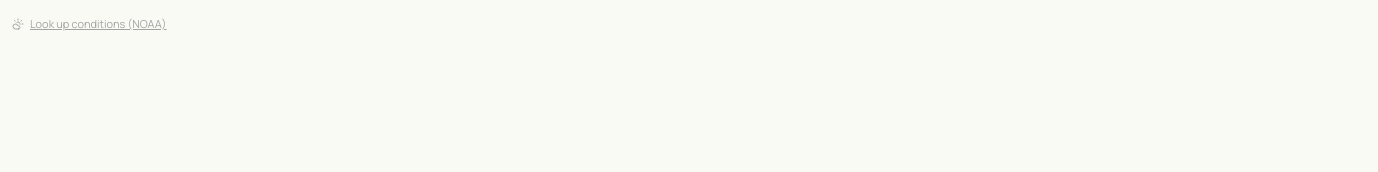
the accept gate › shows the suggestion with station and distance, and fills NOTHING until accepted
The width and height of the screenshot is (1378, 172).
Later steps or results of the test are not shown.
Click the button "Look up conditions (NOAA)".
click(89, 24)  # box x1=12 y1=16 x2=166 y2=32
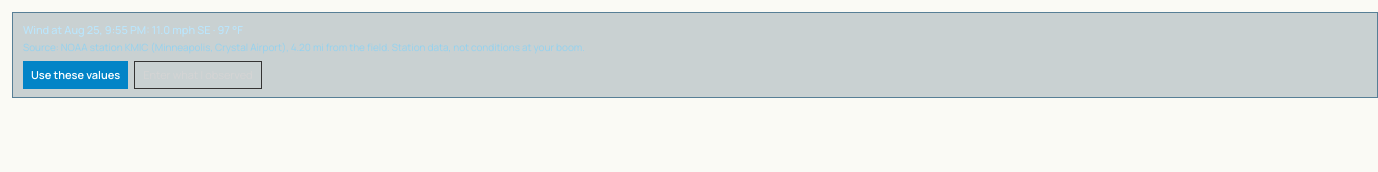
Expected: the element with test id "condition-suggestion" shows "97 °F", x1=211 y1=22 x2=243 y2=37
Expected: the element with test id "condition-suggestion" shows "KMIC", x1=125 y1=40 x2=148 y2=54
Expected: the element with test id "condition-suggestion" shows "station data, not conditions", x1=324 y1=40 x2=585 y2=54
